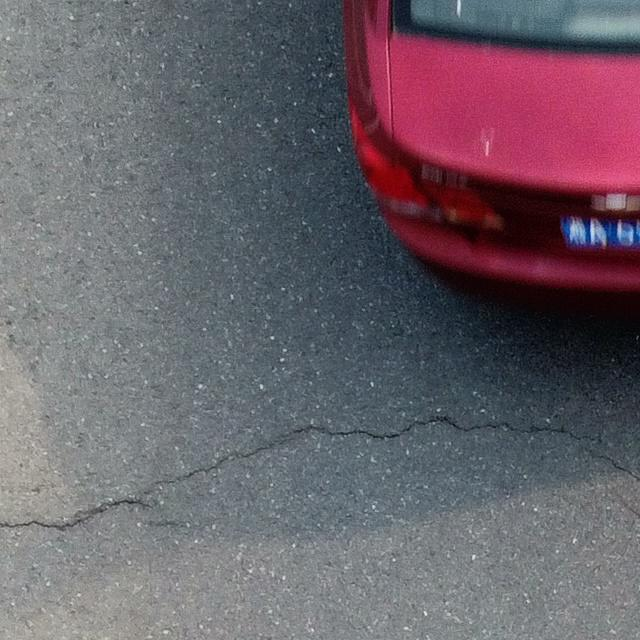TransverseCrack: (1, 415, 583, 531), (594, 450, 640, 482)
